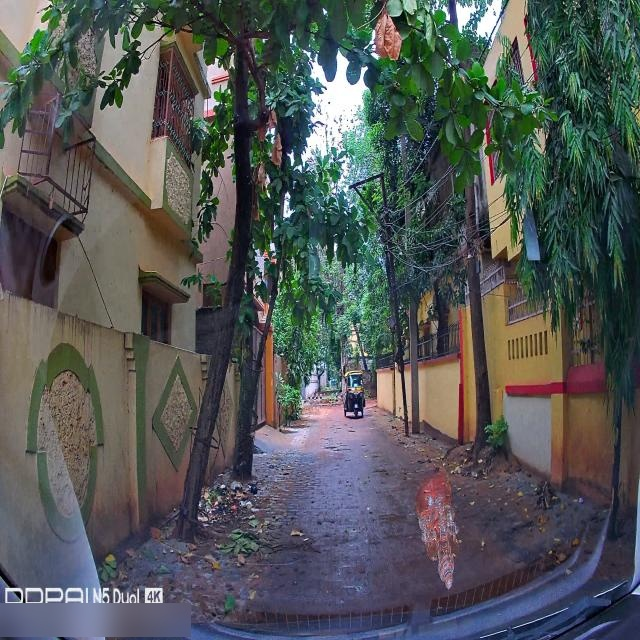pothole: (378, 514, 412, 525), (326, 445, 348, 452), (372, 468, 389, 477), (318, 518, 335, 527), (464, 513, 482, 521), (403, 468, 413, 478), (373, 453, 382, 459), (349, 430, 357, 434), (337, 427, 342, 432), (360, 444, 366, 448), (326, 419, 331, 422), (324, 438, 329, 440), (332, 424, 336, 426), (330, 426, 333, 428), (338, 425, 340, 426)
